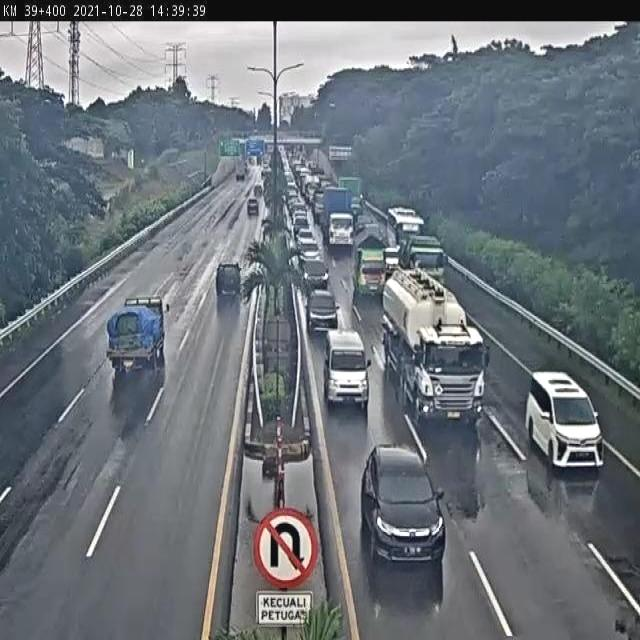Car: (361, 444, 446, 565), (527, 369, 605, 467), (307, 288, 339, 334), (215, 262, 242, 305), (300, 259, 329, 295), (296, 232, 320, 263), (292, 212, 310, 236), (247, 197, 259, 216), (639, 150, 640, 154)
Truck: (383, 267, 489, 428), (107, 295, 169, 376), (325, 182, 355, 252), (356, 231, 388, 294)
Van: (323, 329, 369, 410)
